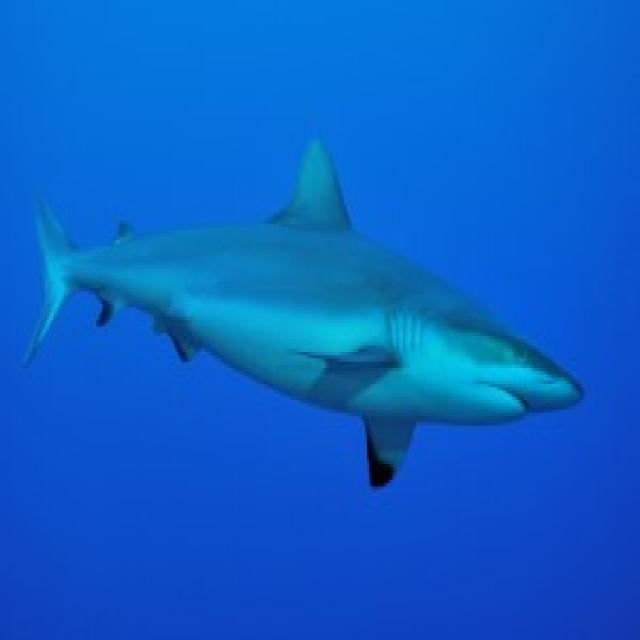Shark: (24, 129, 588, 496)
